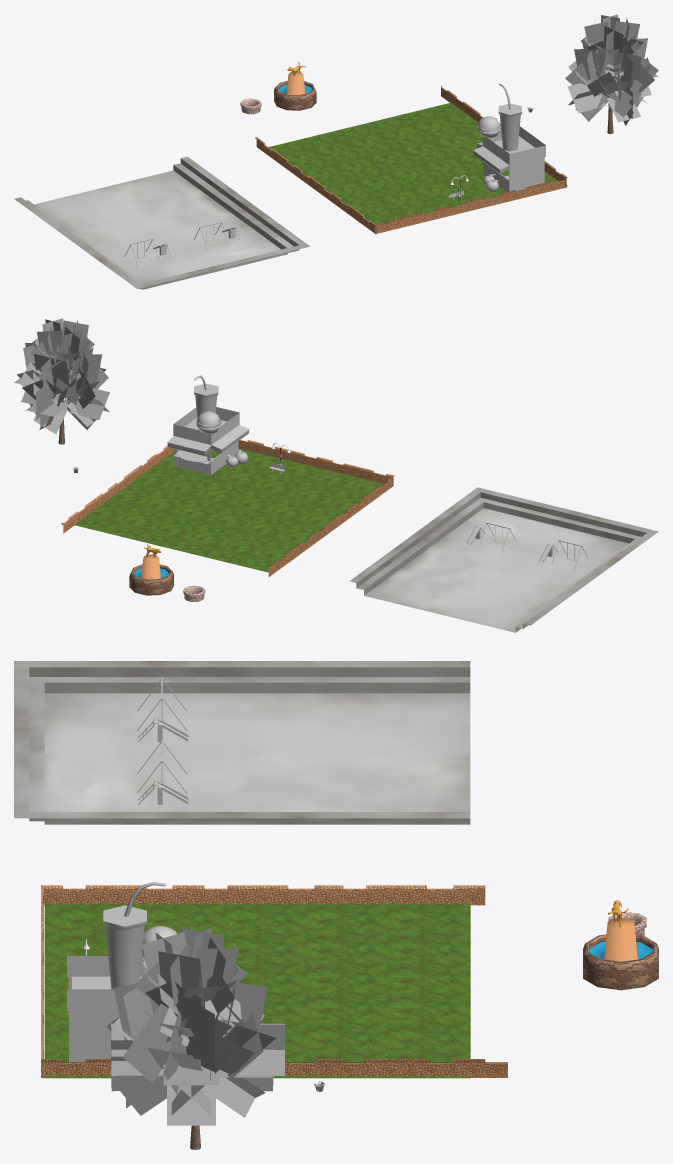
Rendered from extra item.fbx.
The picture shows the model from 3 angles, top to bottom: view 1: azimuth 30°, elevation 25°; view 2: azimuth 150°, elevation 25°; view 3: azimuth 270°, elevation 25°; orthographic projection. The views are drawn at different scales.
Parts seen in each view (by area): view 1: pPlane325, pPlane324, polySurface8947, polySurface8950, polySurface8962; view 2: pPlane325, pPlane324, polySurface8947, polySurface8950, polySurface8962; view 3: pPlane325, pPlane324, polySurface8947, polySurface8950, polySurface8962, polySurface7766, polySurface8955.
Boxes of the visible parts, box(x1,y1,x2,y2) form: pPlane325: box(14, 156, 309, 289); pPlane324: box(268, 102, 567, 223); polySurface8947: box(527, 14, 658, 125); polySurface8950: box(240, 62, 613, 234); polySurface8962: box(473, 83, 545, 192); pPlane325: box(349, 487, 658, 632); pPlane324: box(74, 448, 383, 572); polySurface8947: box(14, 318, 109, 472); polySurface8950: box(58, 397, 394, 601); polySurface8962: box(167, 375, 249, 474); pPlane325: box(14, 661, 470, 824); pPlane324: box(44, 904, 470, 1078); polySurface8947: box(106, 927, 324, 1125); polySurface8950: box(41, 885, 658, 1149); polySurface8962: box(67, 881, 177, 1062); polySurface7766: box(137, 677, 188, 742); polySurface8955: box(137, 740, 188, 804).
Bounding box in the file's own units: 1280 × 253 × 685.
